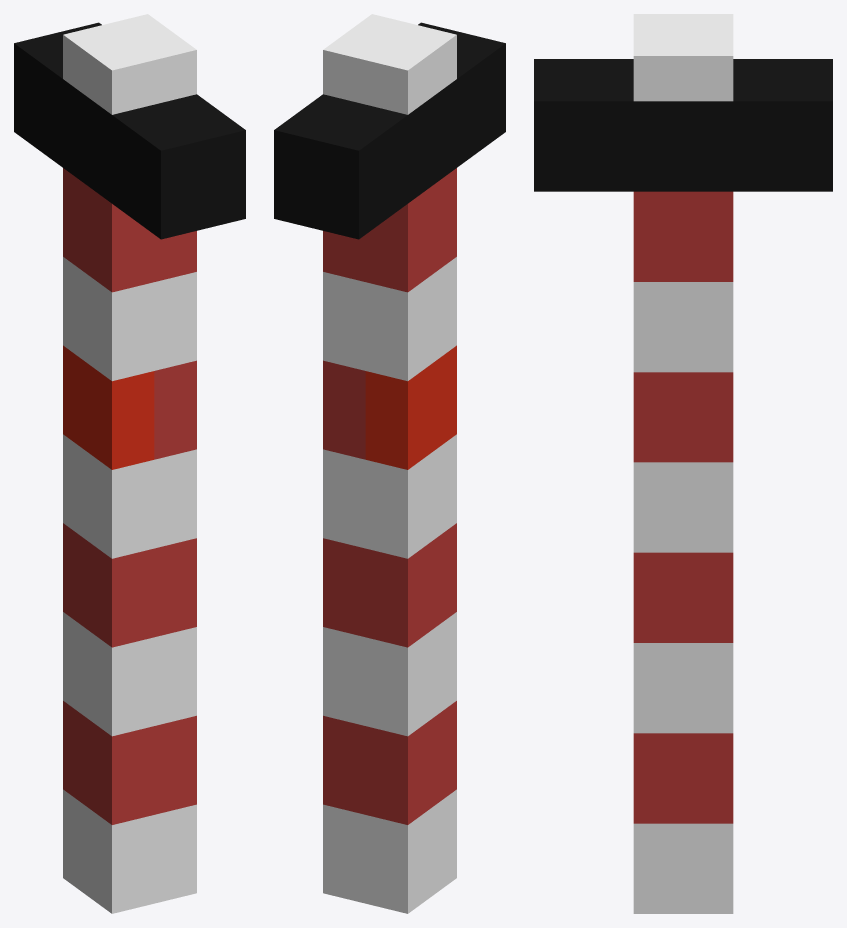
The model's file is CrossyPole.obj.
3 views of the same model, side by side, from view 1: azimuth 30°, elevation 25°; view 2: azimuth 150°, elevation 25°; view 3: azimuth 270°, elevation 25° (orthographic).
Size of the model in its own units: 0.2 by 1.9 by 0.6.
1 material, 1 textured.
